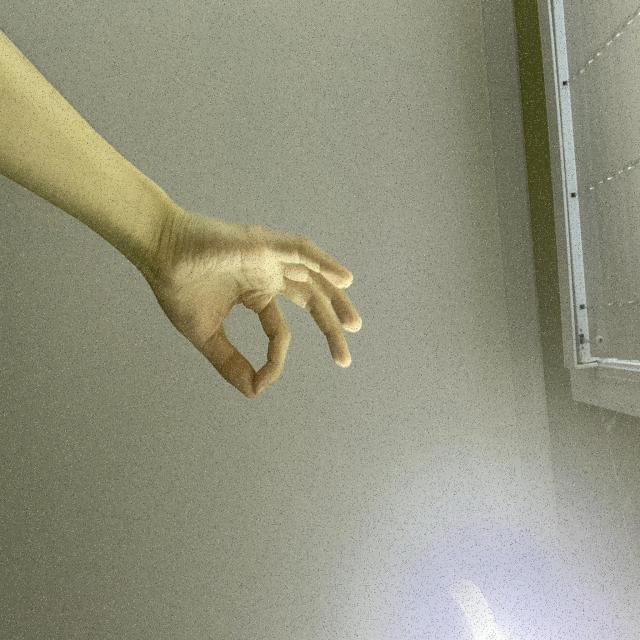F: (318, 365, 466, 640)
